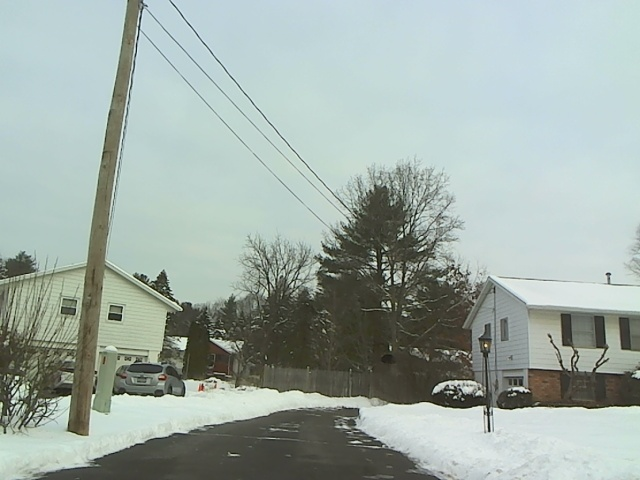Ploughed: (141, 408, 388, 478)
